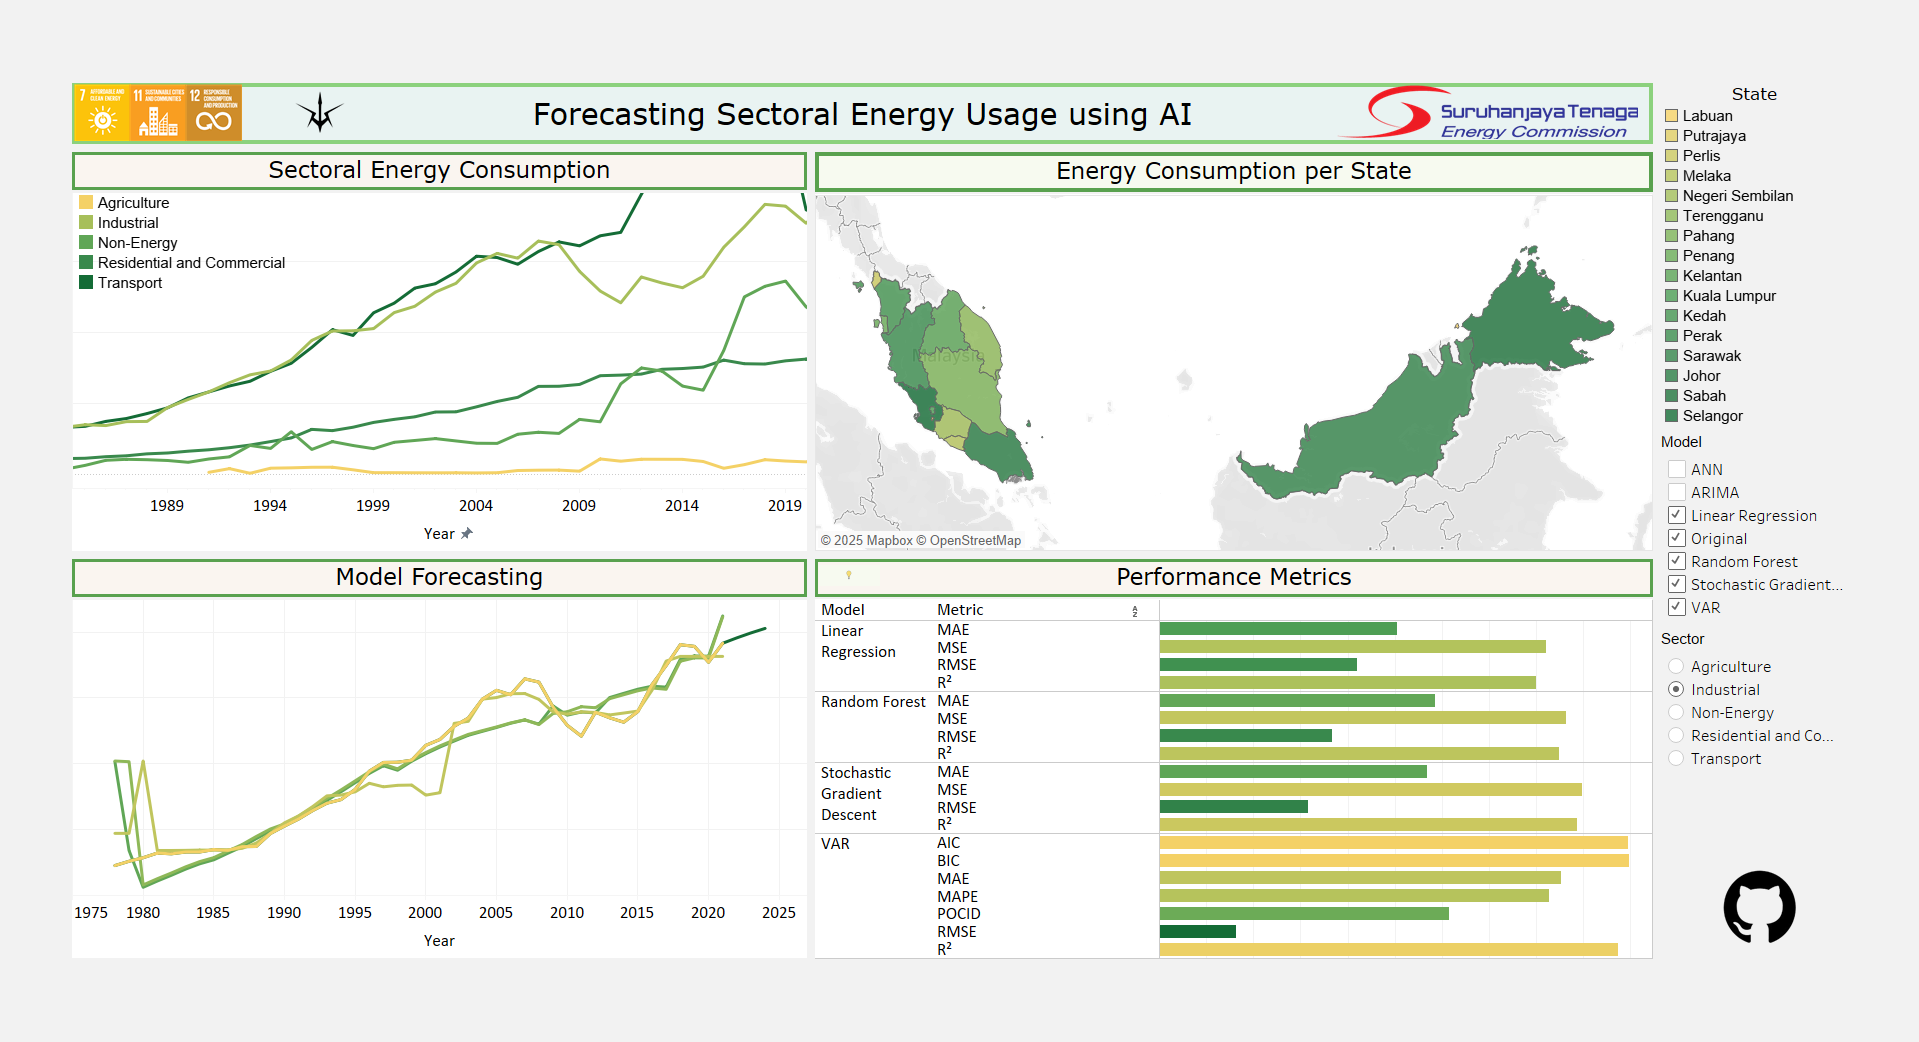

The dashboard page shown, as its layout file describes it:
{"tool":"tableau","page":{"name":"Dashyboard","canvas":[1800,900],"ordinal":0},"visuals":[{"type":"title","box":[8,8,1589,69]},{"type":"legend","title":"Per State","param":"[federated.0jex2hu1voeeml11et0uk10589ax].[none:State:nk]","box":[1597,8,195,350]},{"type":"image","param":"Image/images (1).png","box":[14,13,65,57]},{"type":"image","param":"Image/Sustainable_Development_Goal_11.png","box":[69,13,122,57]},{"type":"image","param":"Image/Sustainable_Development_Goal_12.png","box":[125,13,96,57]},{"type":"image","param":"Image/LOGO_ST_2016.png","box":[1277,14,310,54]},{"type":"image","param":"Image/images-removebg-preview.png","box":[234,16,70,51]},{"type":"worksheet","title":"Sectoral Energy","mark":"Automatic","rows":["Energy Consumption"],"cols":["Year"],"box":[8,77,743,407.5]},{"type":"worksheet","title":"Per State","mark":"Multipolygon","box":[751,77,846,407]},{"type":"legend","title":"Sectoral Energy","param":"[federated.0c7awiz144e99u1bne2qp0uxh9pm].[none:Sector:nk]","box":[16,121,261,109]},{"type":"filter","title":"Model Forecasting","param":"[federated.1jague618fj5dg19szuup1vo5g8z].[none:Model:nk]","box":[1597,358,195,197]},{"type":"worksheet","title":"Performance metrics","mark":"Bar","rows":["Model","Metric"],"cols":["Percentile Value"],"box":[751,484,846,408]},{"type":"worksheet","title":"Model Forecasting","mark":"Automatic","rows":["Value"],"cols":["Year"],"box":[8,484.5,743,407.5]},{"type":"worksheet","title":"Icon","mark":"Shape","rows":["Calculation_593349260455034883"],"box":[759,494,311,95]},{"type":"filter","title":"Model Forecasting","param":"[federated.1jague618fj5dg19szuup1vo5g8z].[none:Sector:nk]","box":[1597,555,195,151]},{"type":"image","param":"Image/images__4_-removebg-preview.png","box":[1641,777,162,117]}]}

Visuals, with their boxes in screenshot pixels (x1, y1, x2, y2):
title: <region>63, 108, 1674, 178</region>
"Per State" legend: <region>1674, 108, 1872, 463</region>
image: <region>69, 113, 135, 171</region>
image: <region>125, 113, 249, 171</region>
image: <region>182, 113, 279, 171</region>
image: <region>1350, 114, 1664, 169</region>
image: <region>292, 116, 363, 168</region>
"Sectoral Energy" worksheet: <region>63, 178, 817, 591</region>
"Per State" worksheet (Multipolygon marks): <region>817, 178, 1674, 591</region>
"Sectoral Energy" legend: <region>71, 223, 336, 333</region>
"Model Forecasting" filter: <region>1674, 463, 1872, 663</region>
"Performance metrics" worksheet (Bar marks): <region>817, 591, 1674, 1005</region>
"Model Forecasting" worksheet: <region>63, 591, 817, 1005</region>
"Icon" worksheet (Shape marks): <region>825, 601, 1140, 697</region>
"Model Forecasting" filter: <region>1674, 663, 1872, 816</region>
image: <region>1719, 888, 1883, 1007</region>
